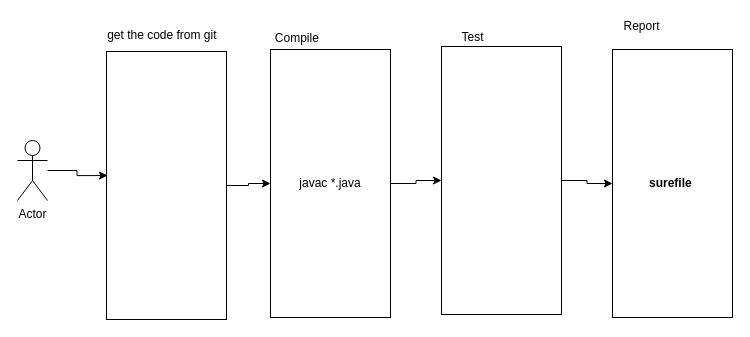
Image size: 750x337. Some labels were removed from this diagram. The shapes that lost their labels are listed below. From the top down, each one's centre as x and y in pixels, then its label:
point (166, 185): git clone <URL>
point (501, 180): mvn clean test
